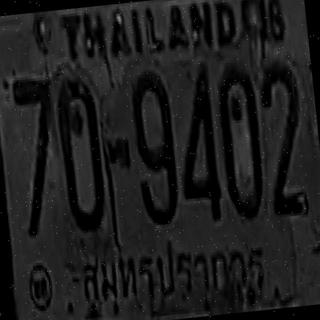N00: (54, 75, 109, 234), (213, 63, 267, 220)
N02: (257, 59, 310, 218)
N04: (170, 62, 223, 223)
N07: (11, 74, 65, 236)
N09: (128, 68, 182, 225)
P57: (78, 233, 271, 312)
